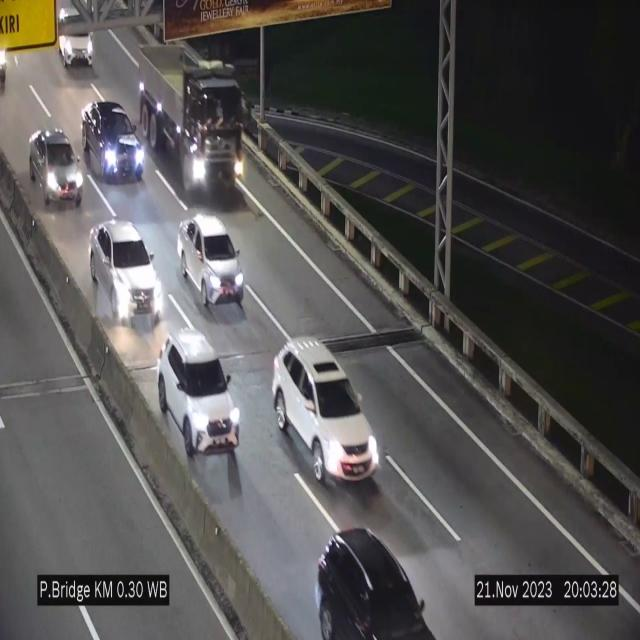Car: (272, 337, 378, 485), (158, 326, 240, 456), (90, 221, 163, 329), (177, 213, 245, 314), (84, 103, 148, 188), (29, 128, 83, 208)
Truck: (133, 35, 254, 198)
